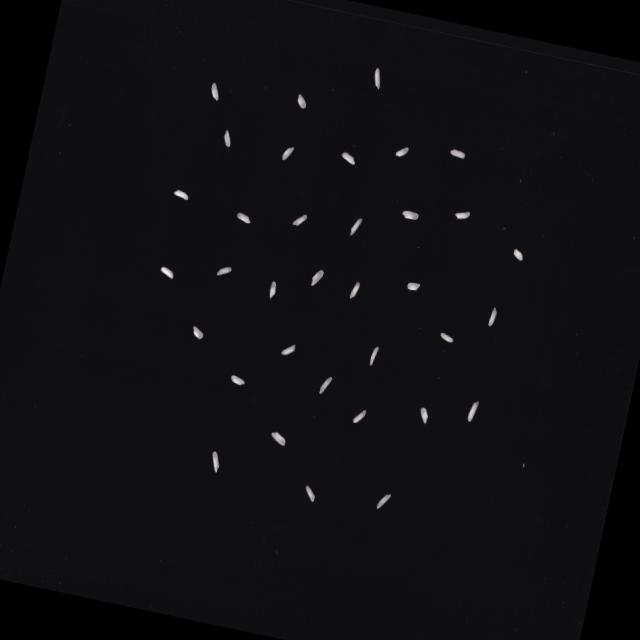Chalky: (318, 372, 333, 394), (349, 214, 363, 236), (310, 266, 324, 287), (466, 398, 478, 422), (400, 207, 420, 221), (208, 80, 222, 100), (292, 210, 308, 227), (302, 483, 317, 501), (376, 489, 390, 508), (371, 66, 383, 88), (348, 279, 361, 299), (270, 430, 286, 446), (280, 340, 296, 356), (352, 406, 366, 424), (280, 143, 294, 161), (209, 450, 221, 470), (216, 262, 232, 277), (340, 149, 356, 164), (416, 405, 429, 423), (221, 127, 233, 146), (159, 264, 175, 278), (369, 344, 379, 366), (488, 304, 498, 326), (236, 210, 252, 223), (395, 144, 409, 158), (191, 324, 205, 338), (454, 208, 470, 220), (438, 330, 454, 342), (230, 372, 246, 384), (296, 92, 308, 108), (268, 279, 278, 298), (449, 147, 466, 158), (406, 279, 421, 291), (173, 188, 190, 198), (512, 247, 524, 260)
